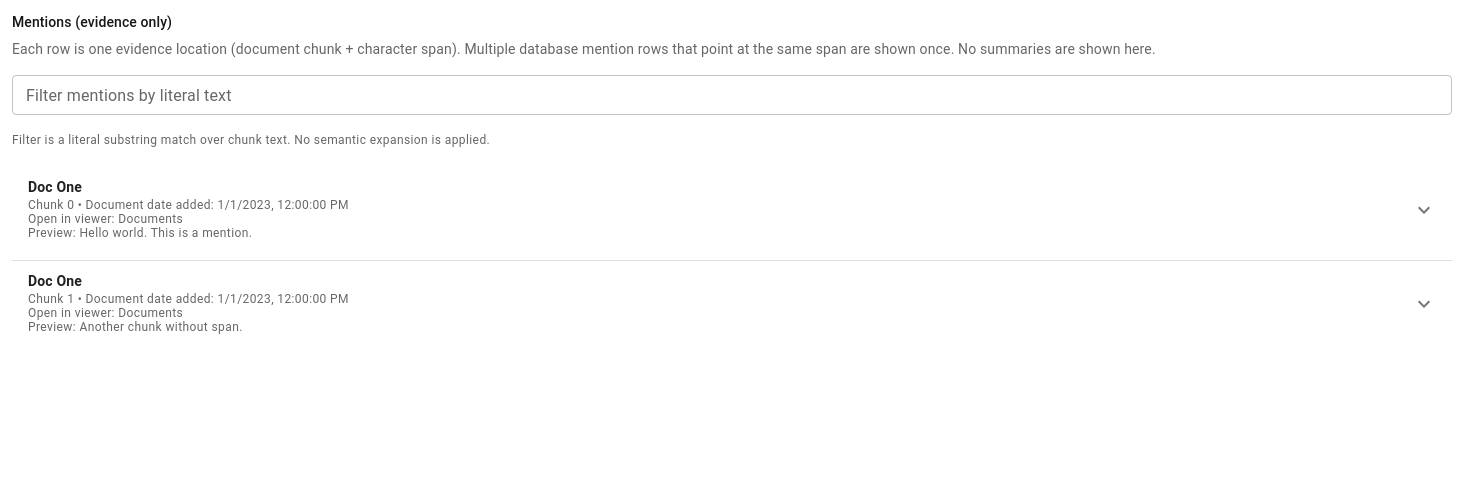
Scenario: EntityMentionsList › renders unknown type and shows message when no filter matches
Click the 1st text "Doc One" at coordinates (55, 187), box [28,179,82,196]
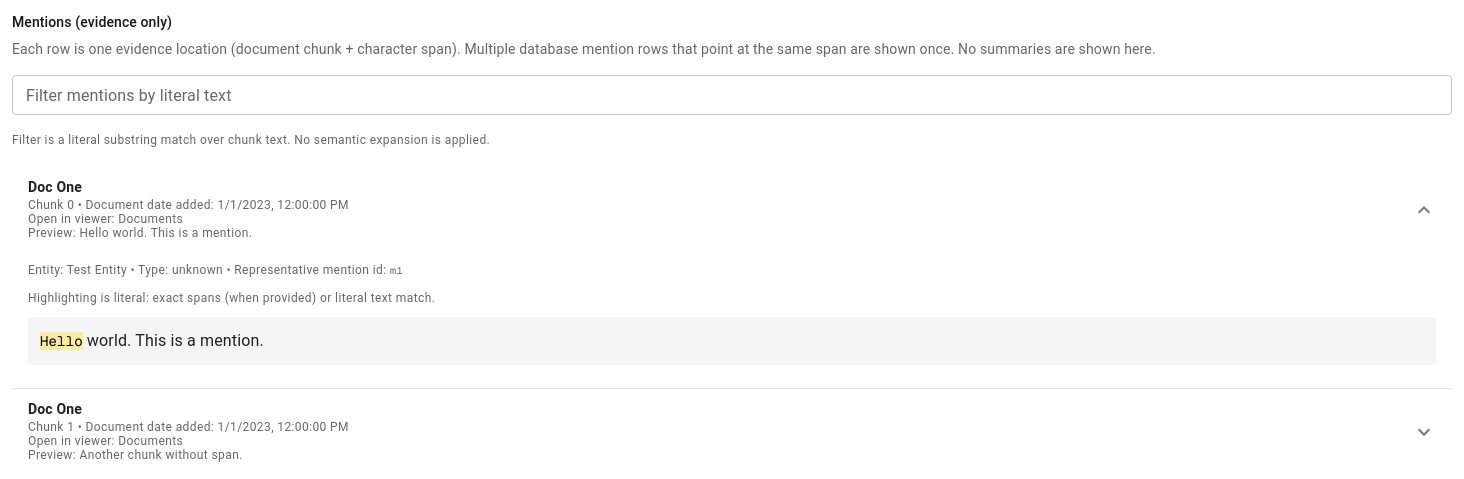
Check: the text "Type: unknown" is shown, box [28,263,403,277]
Type "Nonexistent" into the field labelled "Filter mentions by literal text" at coordinates (732, 95), box [12,75,1452,115]
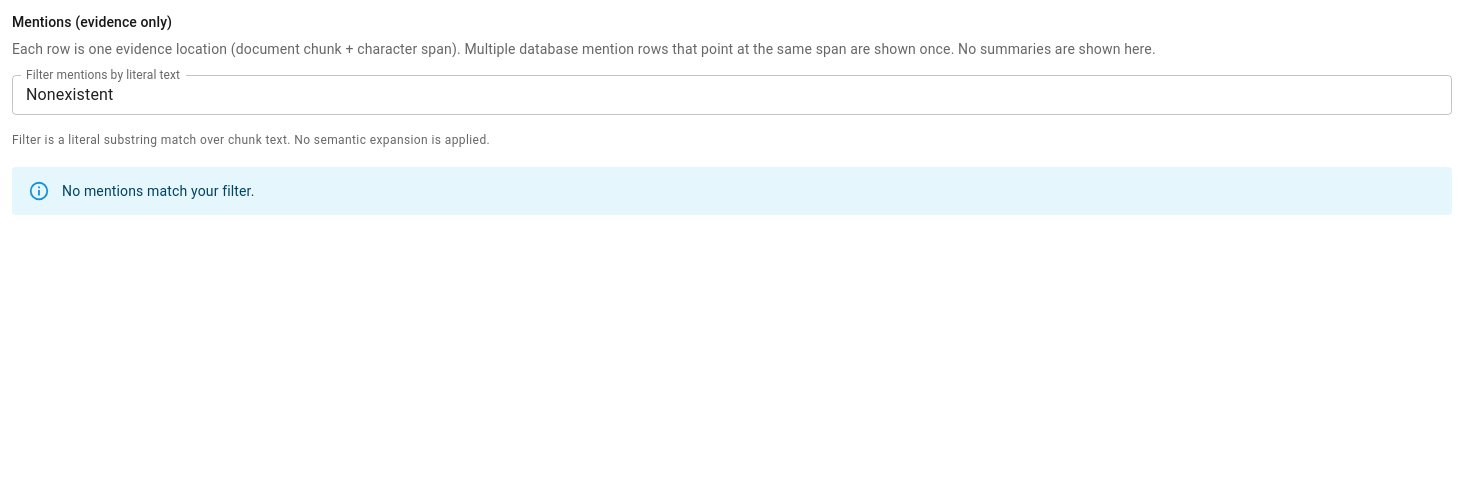
Check: the text "No mentions match your filter." is shown, box [62,183,254,199]
